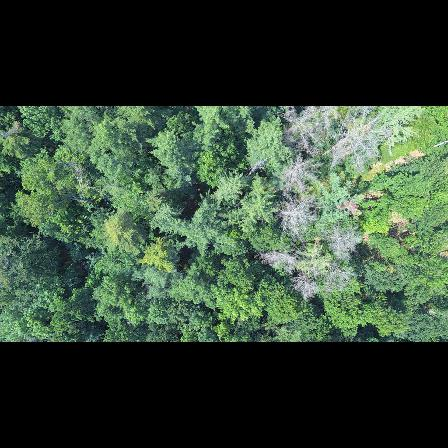Dead: (326, 109, 400, 166), (278, 108, 320, 150), (279, 156, 320, 196), (273, 203, 317, 238), (322, 227, 362, 259), (253, 246, 299, 268), (284, 275, 320, 299)
